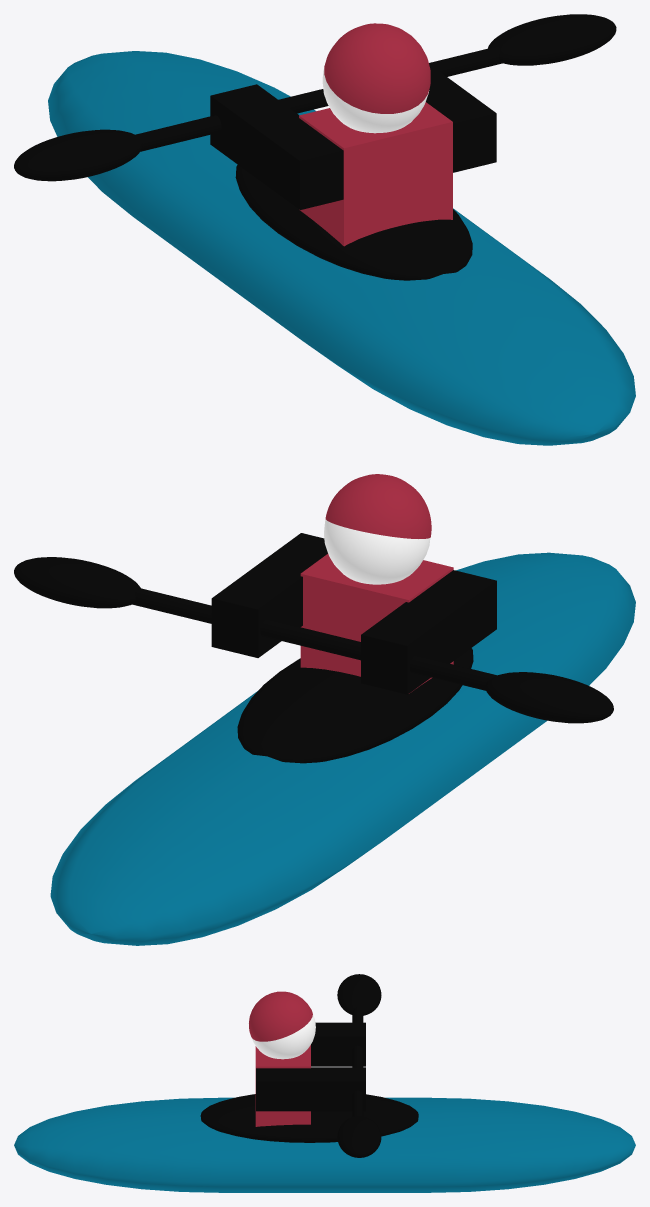
3 views of the same model, one above another, from view 1: azimuth 30°, elevation 25°; view 2: azimuth 150°, elevation 25°; view 3: azimuth 270°, elevation 25° (orthographic). The views are drawn at different scales.
Parts seen in each view (by area): view 1: Capsule, Sphere (×5), Box (×3), Cylinder; view 2: Capsule, Sphere (×5), Box (×3), Cylinder; view 3: Capsule, Sphere (×5), Box (×3), Cylinder.
Boxes of the visible parts, x1,y1,x2,y2 form: Capsule: (48,51,635,445); Sphere (×5): (14,14,616,280); Box (×3): (210,64,496,246); Cylinder: (134,47,502,151); Capsule: (50,552,635,945); Sphere (×5): (14,474,613,763); Box (×3): (211,533,496,694); Cylinder: (132,587,496,690); Capsule: (14,1097,635,1192); Sphere (×5): (200,974,418,1157); Box (×3): (255,1022,365,1126); Cylinder: (352,1007,363,1116).
Bounding box in the file's own units: 3.84 × 1.81 × 5.64.
